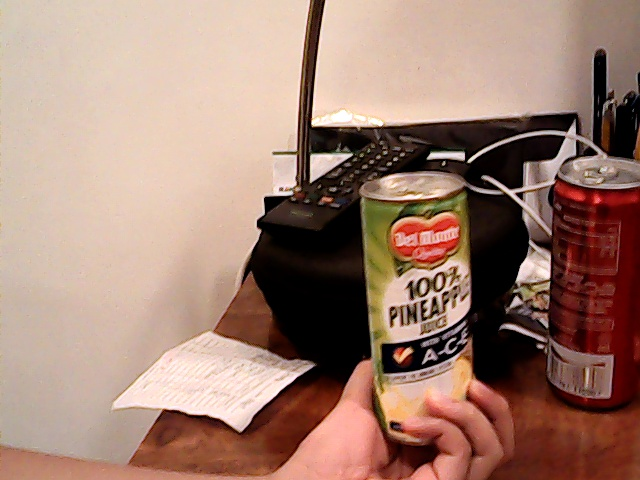Cola: (545, 157, 635, 405)
Pine Juice: (351, 148, 488, 434)
